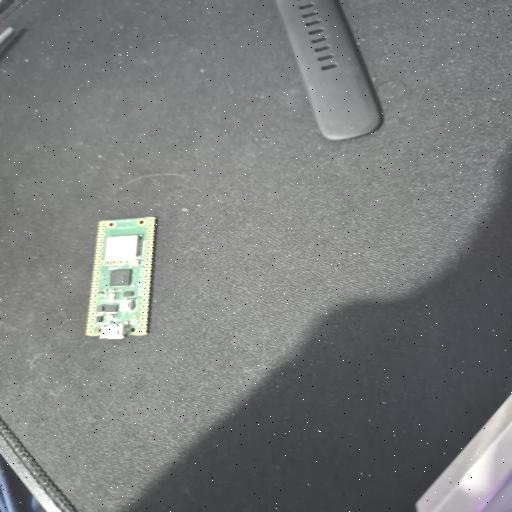raspberry-pi-pico-w: (86, 217, 156, 339)
